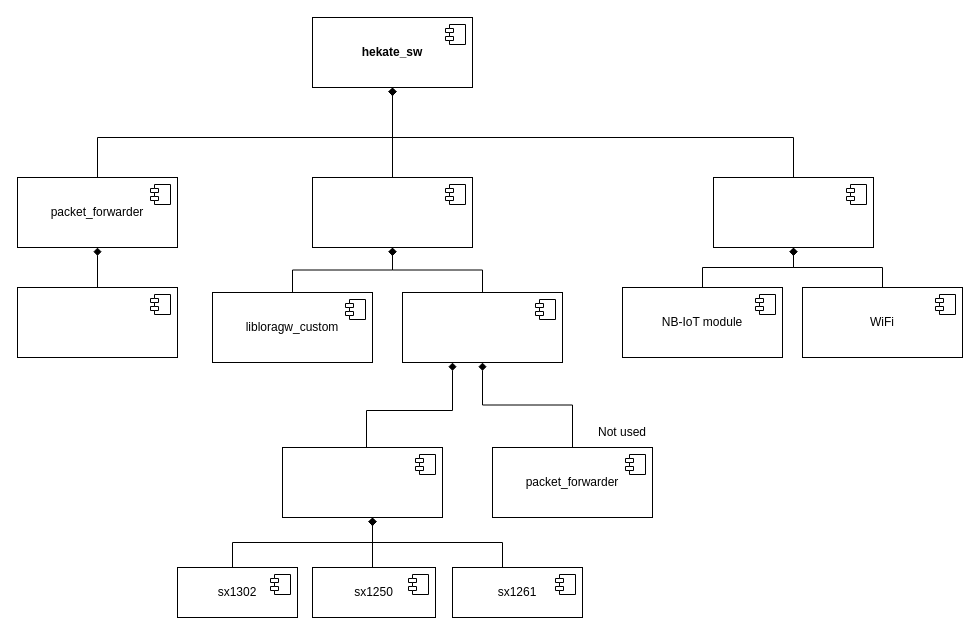
Some shapes in this 980 by 635 pixel diagram are drawn without their labels. The box of each missing label's shape, as (x1, y1, x2, y2) in pixels:
concentrator: (312, 176, 472, 248)
internet: (712, 176, 874, 248)
libloragw: (282, 446, 442, 518)
packet_forwarder.py: (16, 286, 178, 358)
«git submodule» sx1302_hal: (402, 292, 562, 362)
